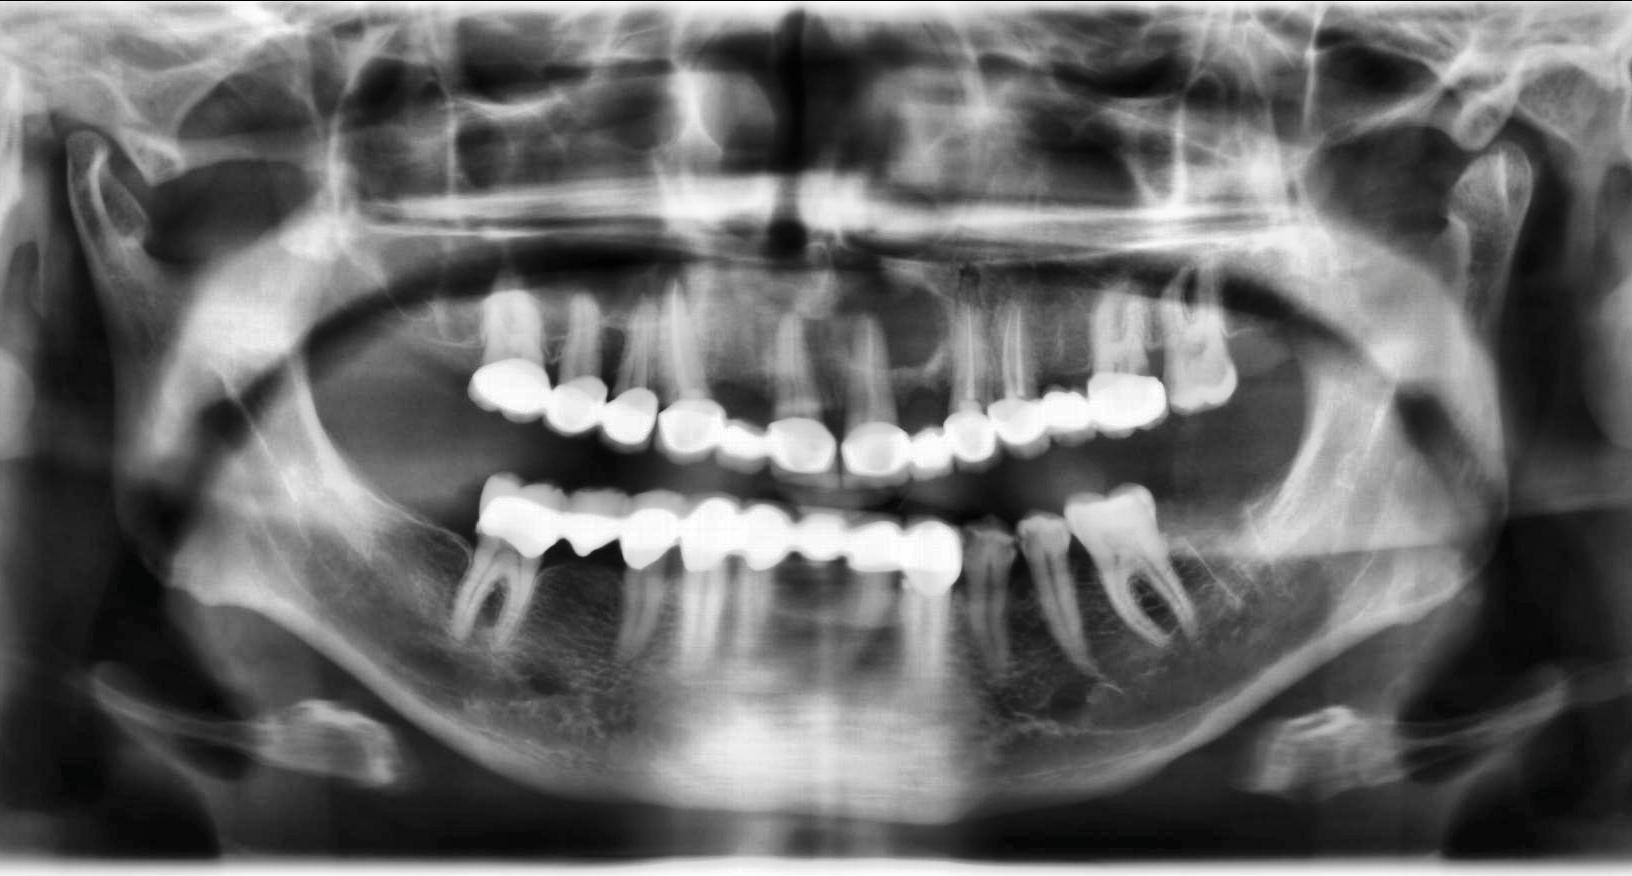radikuler: (825, 246, 953, 372)
